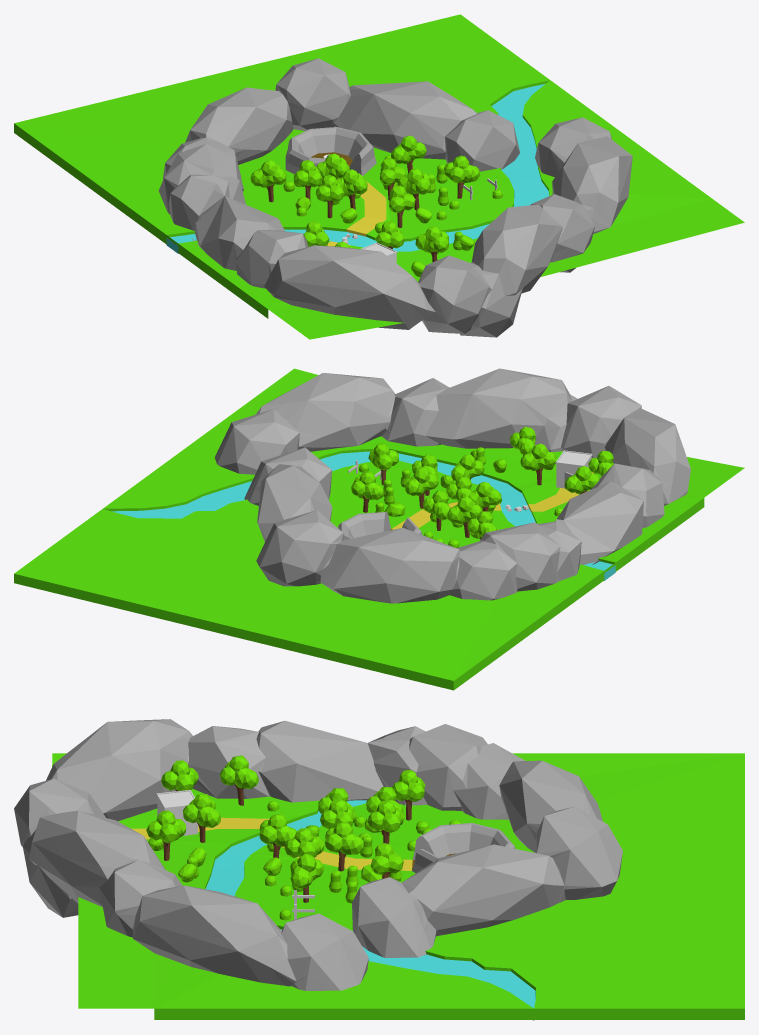
The model's file is lvl1.fbx.
The picture shows the model from 3 angles, top to bottom: view 1: azimuth 30°, elevation 25°; view 2: azimuth 150°, elevation 25°; view 3: azimuth 270°, elevation 25°; orthographic projection. The views are drawn at different scales.
Parts seen in each view (by area): view 1: bush.009, Circle, water, tre, tre.001, tre.010, tre.002, tre.005, tre.011, tre.004, tre.013, tre.006 (+3 smaller); view 2: Circle, bush.009, water, tre.008, tre.002, tre.003, tre.013, Cube.009, tre, tre.007, tre.012, tre.011 (+1 smaller); view 3: Circle, bush.009, water, tre.003, tre.007, tre.010, tre.008, tre.006, tre, tre.012, tre.001, tre.009 (+5 smaller).
Part boxes in pixels (bbox=[...]): bush.009: bbox=[158, 58, 632, 337]; Circle: bbox=[14, 14, 744, 339]; water: bbox=[166, 84, 549, 253]; tre: bbox=[444, 155, 480, 198]; tre.001: bbox=[250, 160, 286, 202]; tre.010: bbox=[415, 226, 448, 261]; tre.002: bbox=[391, 135, 426, 172]; tre.005: bbox=[397, 168, 430, 210]; tre.011: bbox=[315, 175, 344, 218]; tre.004: bbox=[336, 169, 367, 209]; tre.013: bbox=[293, 160, 322, 201]; tre.006: bbox=[389, 185, 415, 227]; Circle: bbox=[14, 368, 744, 690]; bush.009: bbox=[214, 368, 690, 603]; water: bbox=[112, 451, 615, 580]; tre.008: bbox=[520, 443, 556, 485]; tre.002: bbox=[351, 471, 384, 512]; tre.003: bbox=[405, 467, 438, 508]; tre.013: bbox=[447, 497, 482, 537]; Cube.009: bbox=[556, 451, 591, 488]; tre: bbox=[368, 443, 398, 485]; tre.007: bbox=[564, 466, 599, 494]; tre.012: bbox=[423, 490, 450, 530]; tre.011: bbox=[468, 482, 501, 511]; Circle: bbox=[52, 753, 744, 1020]; bush.009: bbox=[14, 719, 622, 990]; water: bbox=[205, 800, 535, 1020]; tre.003: bbox=[325, 821, 363, 871]; tre.007: bbox=[220, 755, 258, 805]; tre.010: bbox=[146, 810, 186, 860]; tre.008: bbox=[183, 794, 220, 842]; tre.006: bbox=[259, 813, 296, 858]; tre: bbox=[290, 854, 323, 902]; tre.012: bbox=[367, 800, 404, 843]; tre.001: bbox=[392, 769, 425, 820]; tre.009: bbox=[161, 760, 198, 791].
Bounding box in the file's own units: 94.71 × 20.39 × 115.
